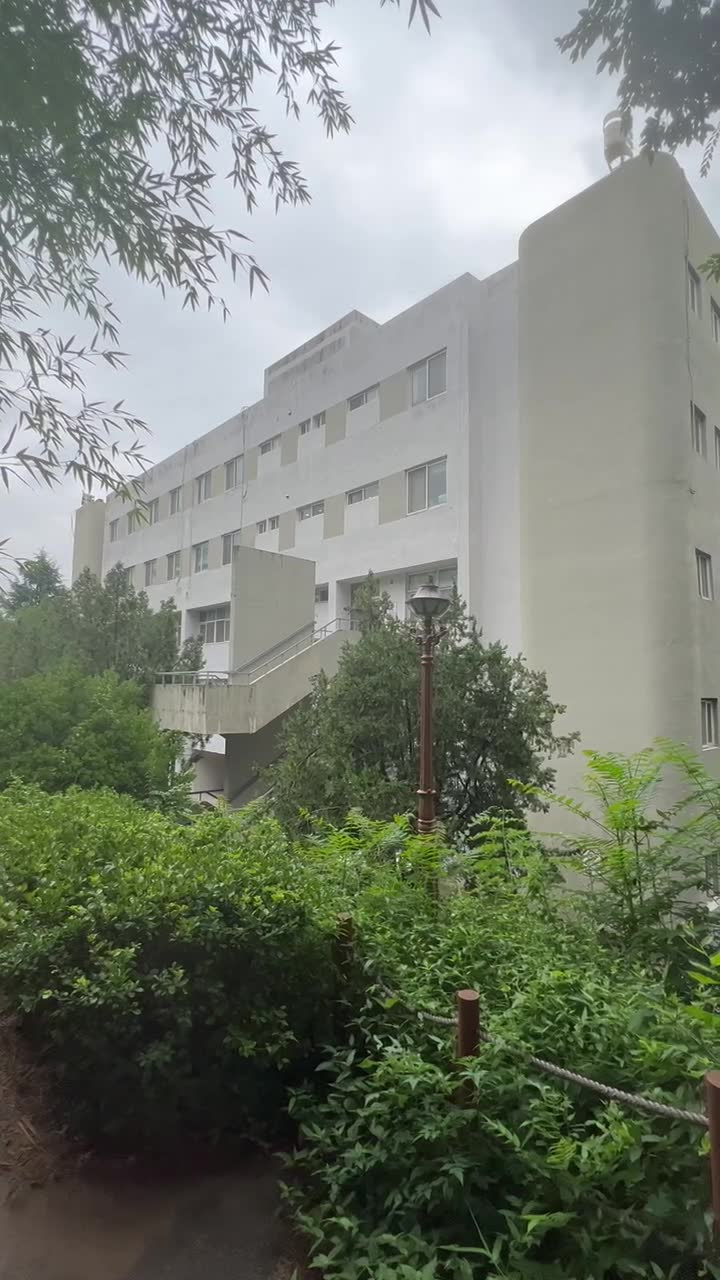low: (204, 252, 720, 616)
